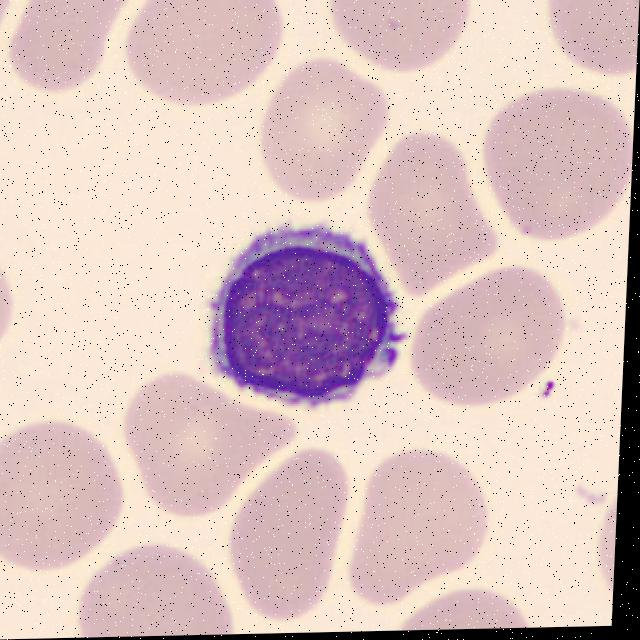lymphocyte: (203, 219, 406, 418)
rbc: (110, 372, 314, 511), (338, 442, 492, 607), (224, 446, 357, 625), (407, 272, 573, 408), (495, 88, 635, 246), (369, 130, 489, 296), (0, 415, 125, 567), (248, 65, 387, 201), (128, 0, 289, 110), (74, 549, 229, 638), (314, 0, 477, 84), (3, 0, 118, 97), (381, 580, 540, 631), (537, 0, 640, 77), (589, 491, 618, 599), (0, 250, 22, 367)
